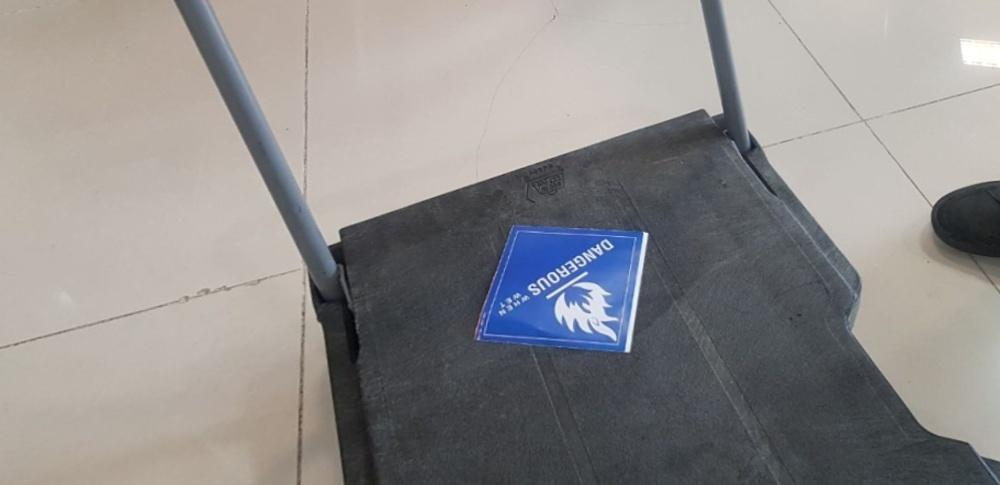dangerous-when-wet: (469, 224, 650, 360)
